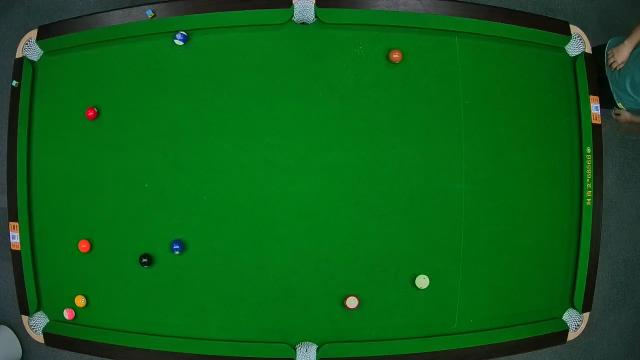bag1: (21, 37, 44, 63)
bag2: (293, 0, 318, 24)
bag3: (564, 28, 590, 58)
bag4: (27, 310, 49, 338)
bag5: (295, 340, 319, 360)
bag6: (562, 306, 590, 334)
ball0: (416, 274, 430, 290)
ball1: (74, 294, 90, 308)
ball10: (173, 31, 189, 47)
ball11: (344, 294, 360, 310)
ball12: (64, 308, 76, 322)
ball2: (170, 239, 186, 257)
ball3: (84, 106, 100, 121)
ball5: (78, 238, 92, 254)
ball7: (388, 48, 404, 66)
ball8: (138, 252, 154, 270)
